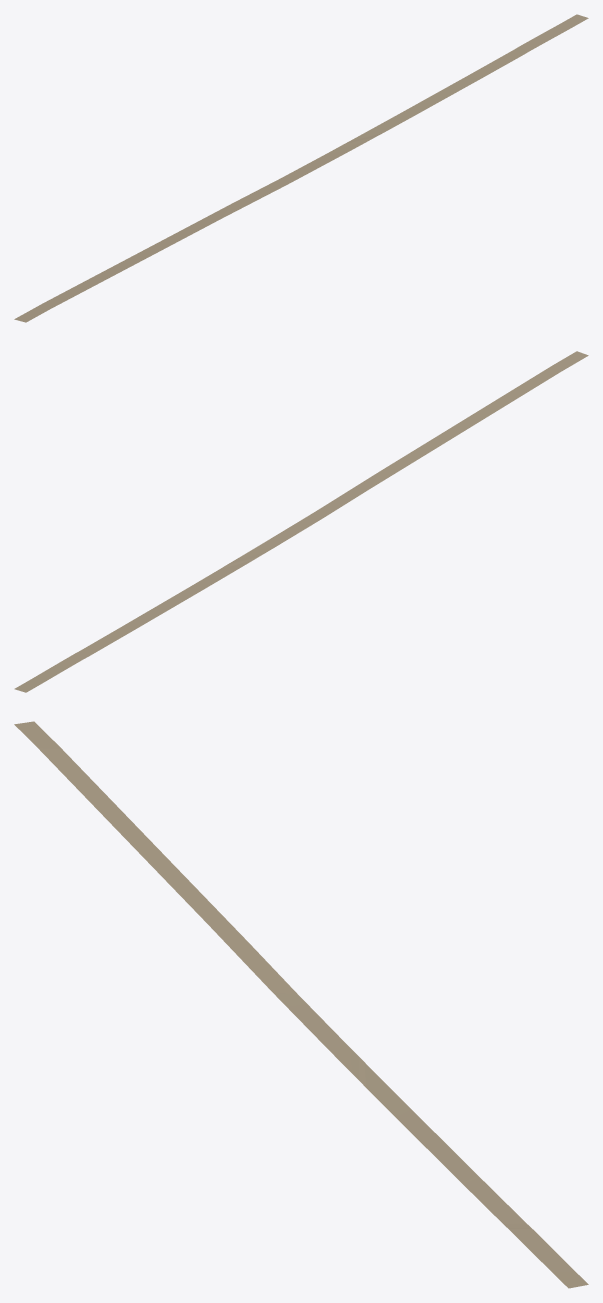
Rendered from farm_2_8_track.glb.
The picture shows the model from 3 angles, top to bottom: view 1: azimuth 30°, elevation 25°; view 2: azimuth 210°, elevation 25°; view 3: azimuth 270°, elevation 25°; orthographic projection. The views are drawn at different scales.
Parts seen in each view (by area): view 1: geometry_0; view 2: geometry_0; view 3: geometry_0.
Part boxes in pixels (<box>): geometry_0: <box>14,14,588,322</box>; geometry_0: <box>14,351,588,692</box>; geometry_0: <box>14,721,588,1288</box>.
Bounding box in the file's own units: 190 × 4.01 × 85.02.
